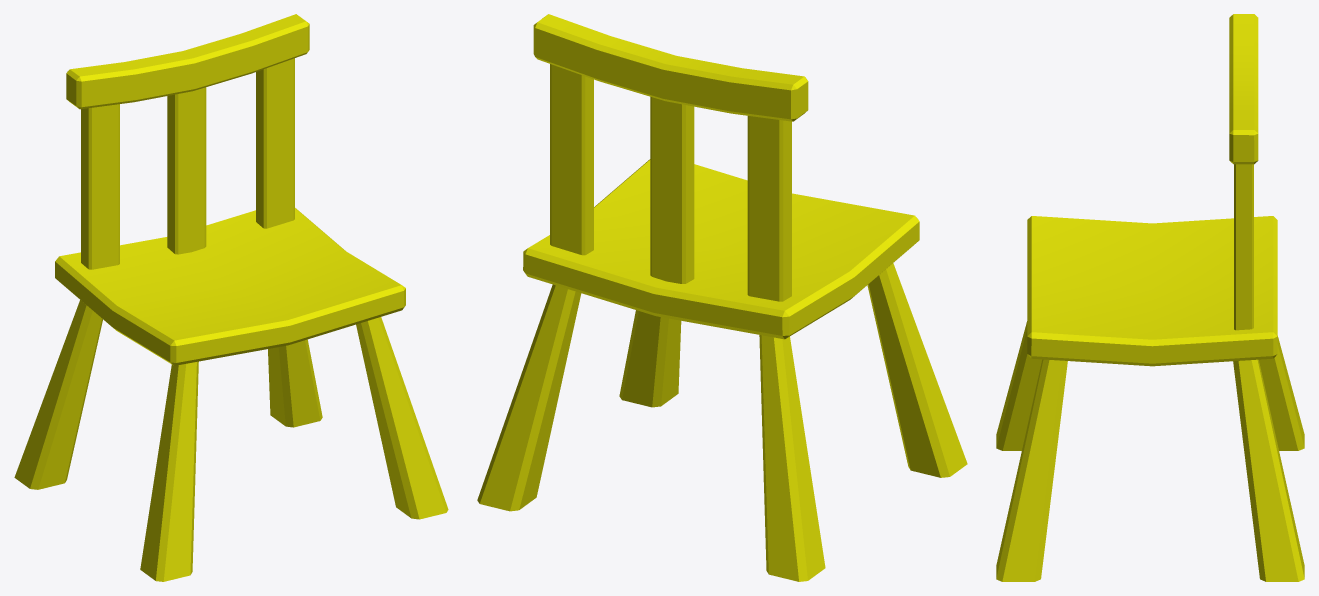
The picture shows the model from 3 angles, left to right: view 1: azimuth 30°, elevation 25°; view 2: azimuth 150°, elevation 25°; view 3: azimuth 270°, elevation 25°; orthographic projection. The views are drawn at different scales.
Visible parts, largest first — view 1: chair; view 2: chair; view 3: chair.
Boxes of the visible parts, x1=… form: chair: x1=14, y1=14, x2=448, y2=581; chair: x1=477, y1=14, x2=967, y2=581; chair: x1=996, y1=14, x2=1304, y2=581.
Size of the model in its own units: 0.0766 by 0.1039 by 0.0667.
Materials: 1 (1 with a texture image).
